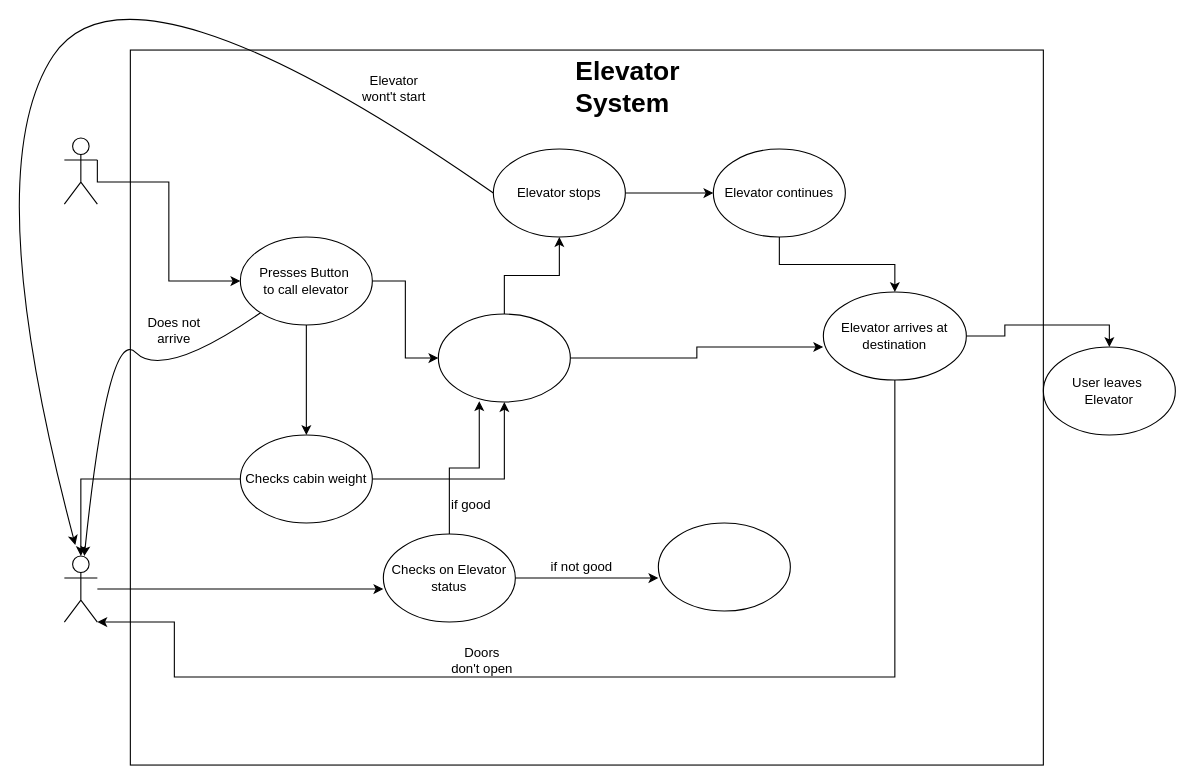
This 1195x784 diagram has some shape labels left out. The shapes that lost their labels are listed below. From the top down, each one's box as (x1, y1, x2, y2) in pixels, then its label:
(63, 137, 97, 204): User
(437, 313, 570, 402): Rides Elevator
(657, 522, 790, 611): elevator is under repair
(63, 555, 97, 622): Maintenance
